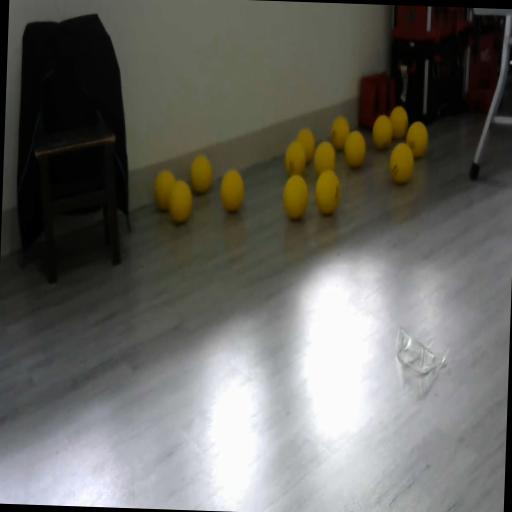FUEL: (280, 172, 310, 220), (218, 167, 246, 213), (314, 168, 340, 214), (388, 141, 414, 184), (153, 168, 176, 212), (188, 153, 212, 194), (343, 128, 367, 168), (404, 119, 428, 159), (312, 140, 336, 176), (294, 126, 316, 164), (388, 104, 410, 140), (372, 114, 394, 150), (330, 114, 350, 150)
